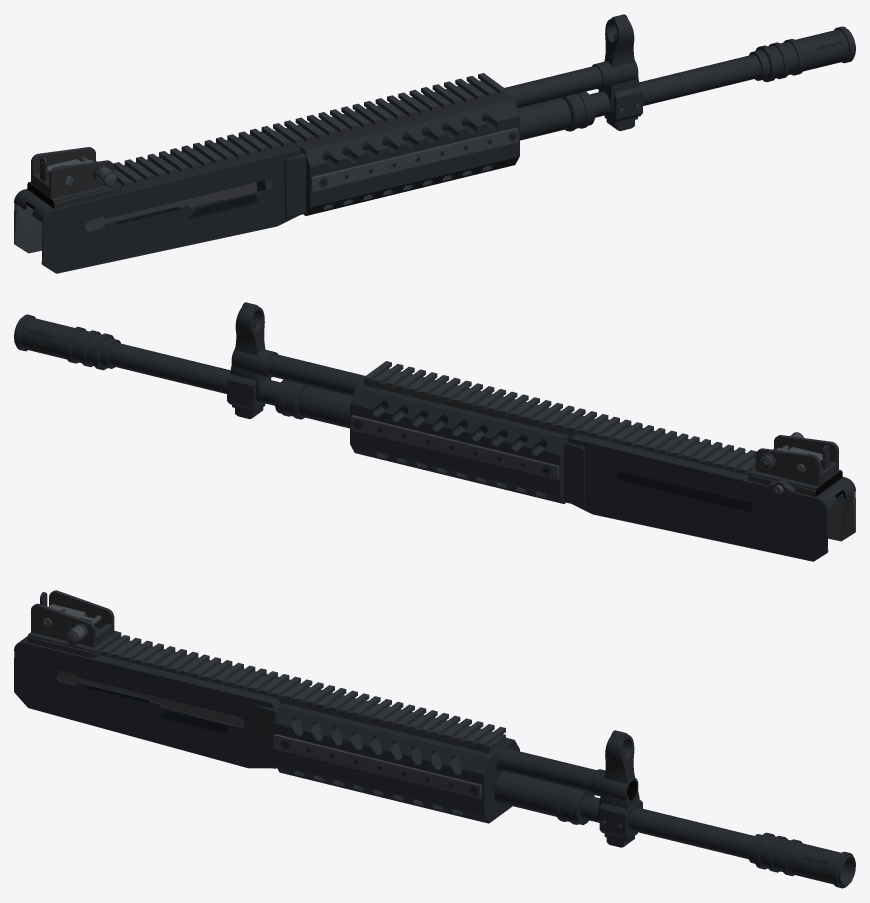
File: 01_Upper_UVReady.fbx
3 renders of one model, top to bottom at view 1: azimuth 30°, elevation 25°; view 2: azimuth 150°, elevation 25°; view 3: azimuth 330°, elevation 25°, orthographic.
Parts seen in each view (by area): view 1: 01_Upper; view 2: 01_Upper; view 3: 01_Upper.
Boxes of the visible parts, x1=… form: 01_Upper: x1=14, y1=14, x2=855, y2=273; 01_Upper: x1=14, y1=302, x2=855, y2=561; 01_Upper: x1=14, y1=590, x2=855, y2=888.
Size of the model in its own units: 0.7227 by 0.0951 by 0.0596.
Materials: 1 (1 with a texture image).
